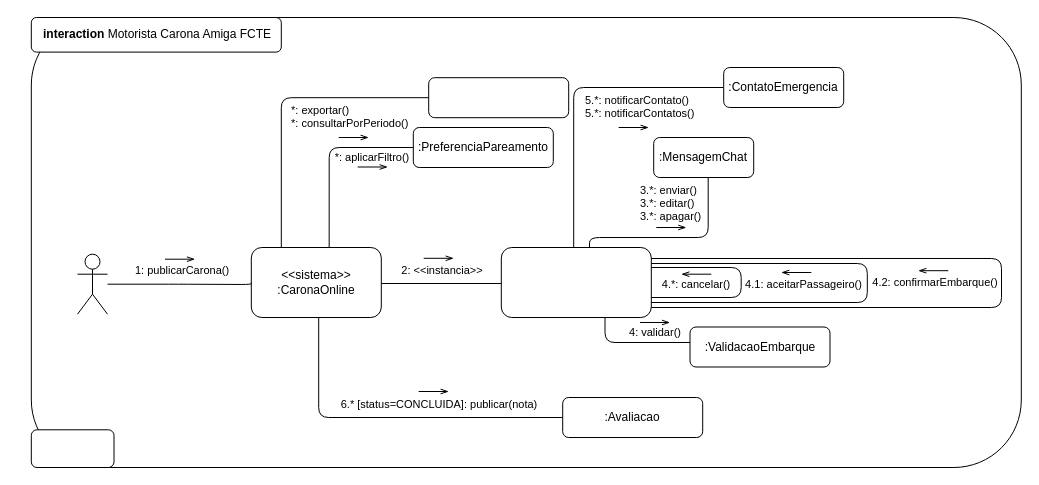
Some shapes in this 1039 by 485 pixel diagram are drawn without their labels. The shapes that lost their labels are listed below. From the top down, each one's centre as x and y in pixels, then its label:
At point 498,97: ":HistóricoViagem:".
At point 92,283: ":Motorista".
At point 575,282: "carona:Carona".
At point 72,448: "Versão 1.0".
